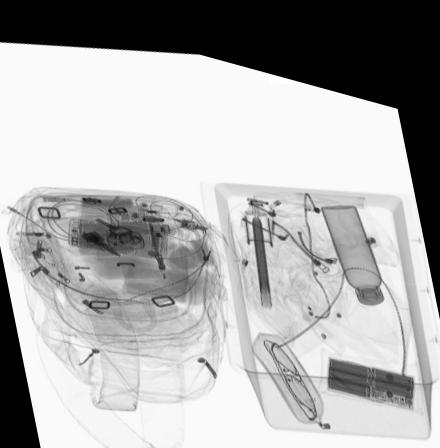Powerbank: (328, 340, 414, 385)
